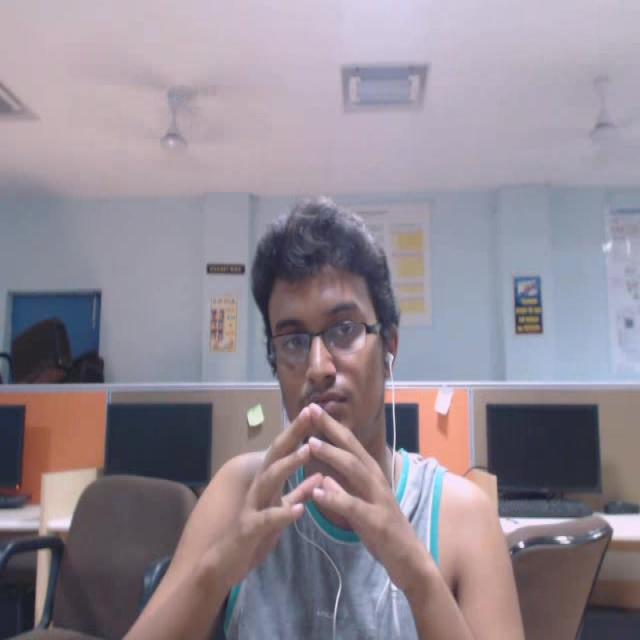Bored: (214, 180, 421, 507)
